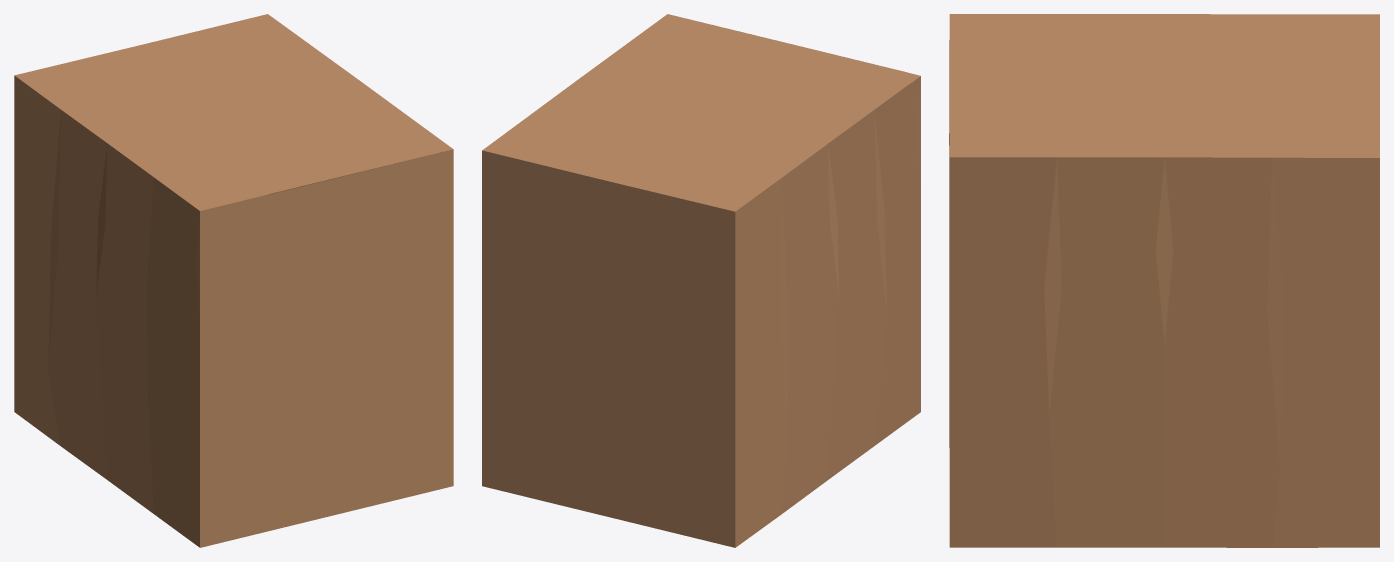
Rendered from Edge_single_side.fbx.
3 renders of one model, left to right at view 1: azimuth 30°, elevation 25°; view 2: azimuth 150°, elevation 25°; view 3: azimuth 270°, elevation 25°, orthographic. The views are drawn at different scales.
Parts seen in each view (by area): view 1: Cube.149; view 2: Cube.149; view 3: Cube.149.
Boxes of the visible parts, x1=… form: Cube.149: x1=14, y1=14, x2=453, y2=547; Cube.149: x1=482, y1=14, x2=920, y2=547; Cube.149: x1=949, y1=14, x2=1379, y2=547.
Size of the model in its own units: 0.8576 by 1 by 1.
